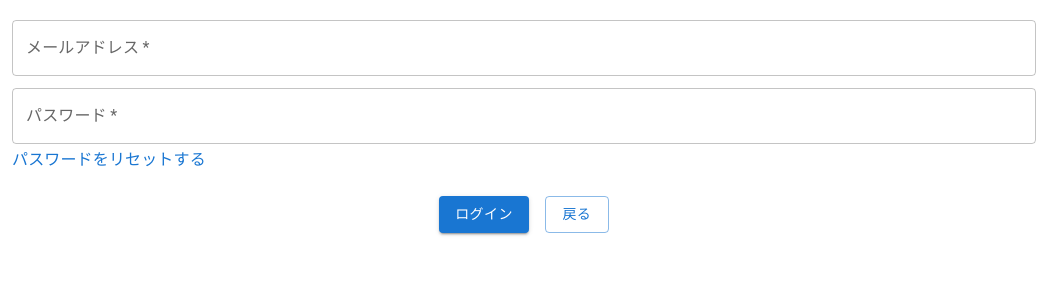
LoginForm › validation message is displayed if no email is entered
In the field with test id "password": coordinates (524, 48) [12,20,1036,76], type "password"
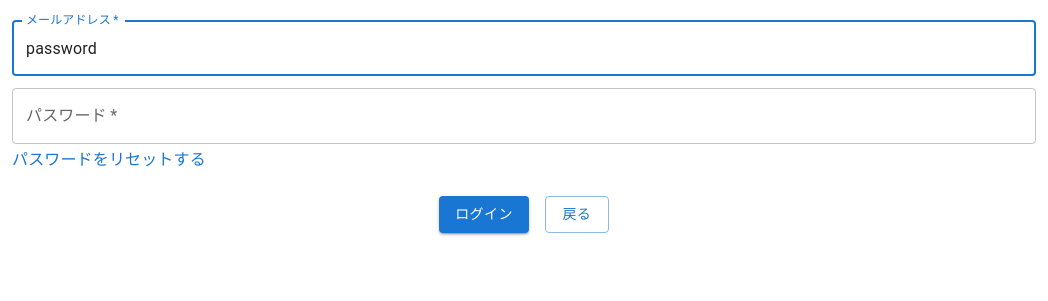
Click the button "ログイン": coordinates (484, 214) [439,196,529,232]
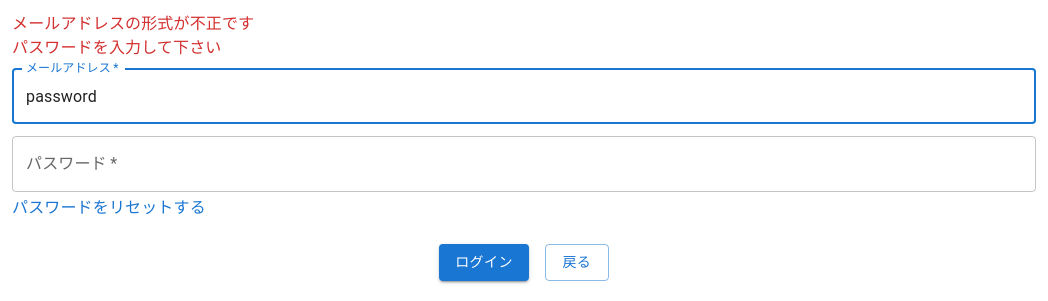
Now the text "パスワードを入力して下さい" is shown, box [12,38,222,57]
